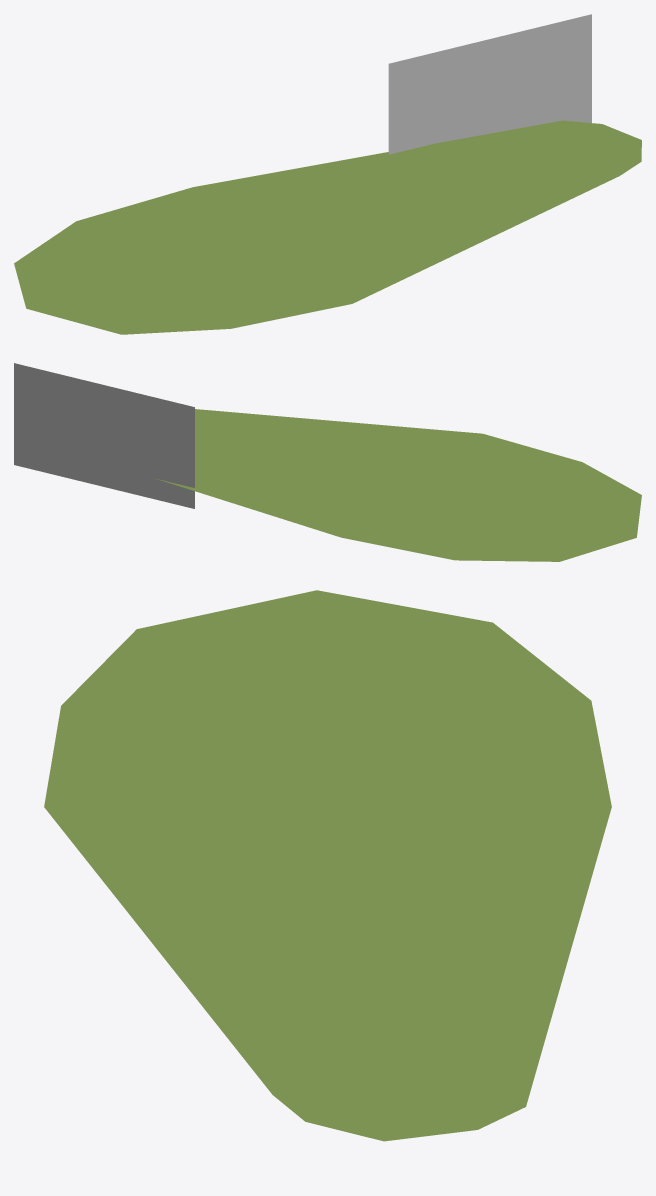
The model's file is Mesh_Battle_Forest_Ground_14.FBX.
The picture shows the model from 3 angles, top to bottom: view 1: azimuth 30°, elevation 25°; view 2: azimuth 150°, elevation 25°; view 3: azimuth 270°, elevation 25°; orthographic projection. The views are drawn at different scales.
Visible parts, largest first — view 1: Mesh_Battle_Forest_Ground_14, Mesh_Battle_Forest_Grass_14; view 2: Mesh_Battle_Forest_Ground_14, Mesh_Battle_Forest_Grass_14; view 3: Mesh_Battle_Forest_Ground_14.
Part boxes in pixels (left/top/right/bottom): Mesh_Battle_Forest_Ground_14: left=14, top=120, right=641, bottom=334; Mesh_Battle_Forest_Grass_14: left=388, top=14, right=591, bottom=154; Mesh_Battle_Forest_Ground_14: left=157, top=409, right=641, bottom=561; Mesh_Battle_Forest_Grass_14: left=14, top=363, right=194, bottom=508; Mesh_Battle_Forest_Ground_14: left=44, top=590, right=611, bottom=1141.
Bounding box in the file's own units: 63.11 × 10.89 × 27.47.
